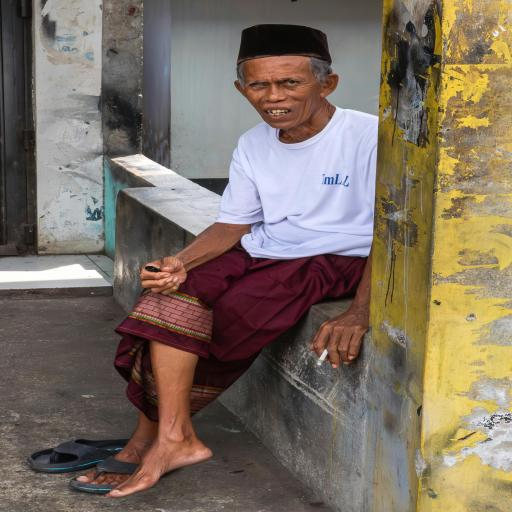pegang rokok: (288, 300, 386, 396)
